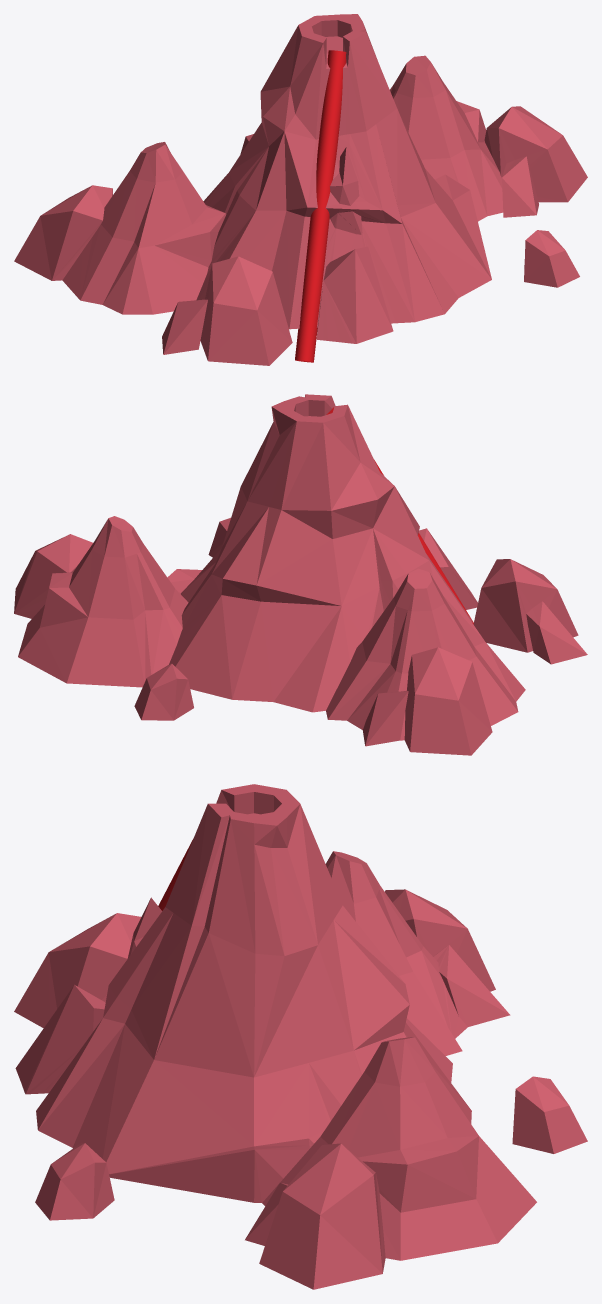
The model's file is volcan.glb.
3 views of the same model, one above another, from view 1: azimuth 30°, elevation 25°; view 2: azimuth 150°, elevation 25°; view 3: azimuth 270°, elevation 25° (orthographic). The views are drawn at different scales.
Bounding box in the file's own units: 2 × 0.9901 × 1.46.
